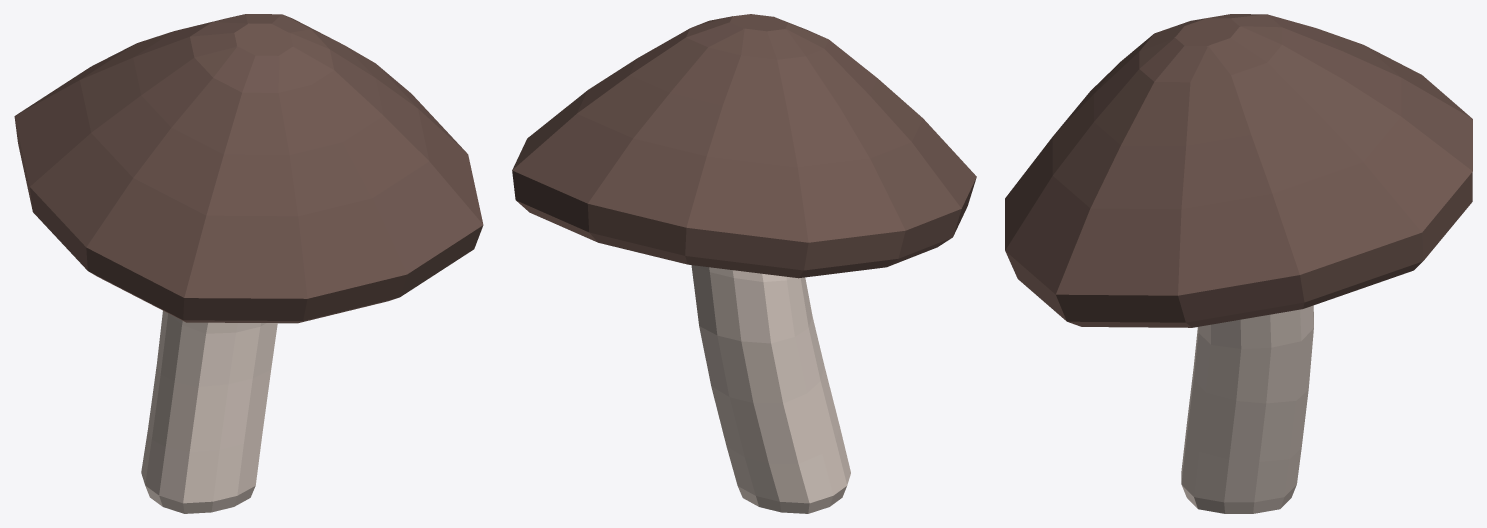
File: Mushroom1.6.fbx
The picture shows the model from 3 angles, left to right: view 1: azimuth 30°, elevation 25°; view 2: azimuth 150°, elevation 25°; view 3: azimuth 270°, elevation 25°; orthographic projection. The views are drawn at different scales.
Visible parts, largest first — view 1: Mushroom1.6; view 2: Mushroom1.6; view 3: Mushroom1.6.
Part boxes in pixels (box(x1,y1,x2,y2)): Mushroom1.6: box(14, 14, 483, 513); Mushroom1.6: box(512, 14, 976, 513); Mushroom1.6: box(1005, 14, 1472, 513).
Size of the model in its own units: 163 by 186 by 161.
